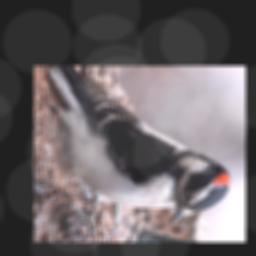Woodpecker: (45, 67, 235, 228)
